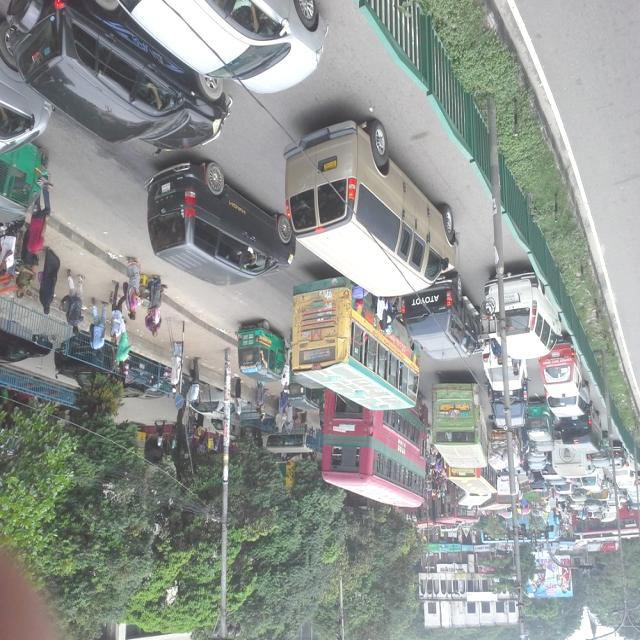black: (10, 0, 222, 150), (149, 160, 296, 286), (405, 272, 482, 358), (559, 401, 602, 453), (488, 376, 530, 429)
red: (541, 340, 580, 399)
silver: (289, 115, 463, 298), (136, 0, 334, 90), (546, 376, 589, 418)
white: (488, 270, 562, 359), (484, 341, 524, 392)
